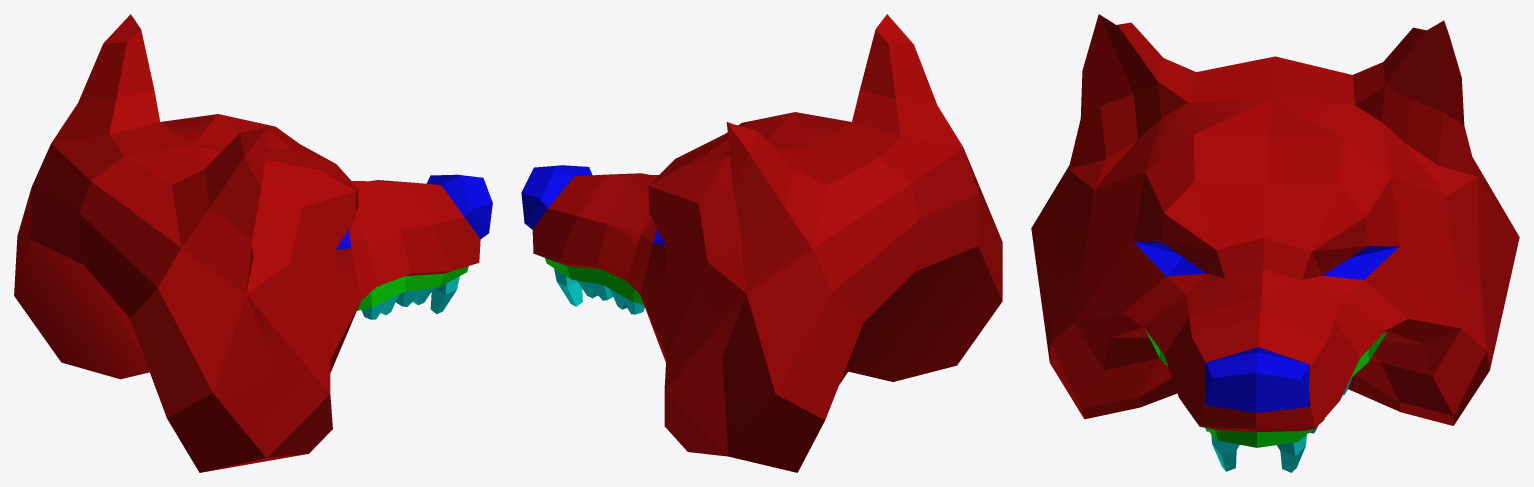
Rendered from Chr_ShoulderAttachLeft_Static_09.fbx.
3 views of the same model, side by side, from view 1: azimuth 30°, elevation 25°; view 2: azimuth 150°, elevation 25°; view 3: azimuth 270°, elevation 25° (orthographic). The views are drawn at different scales.
Visible parts, largest first — view 1: Chr_ShoulderAttachLeft_09; view 2: Chr_ShoulderAttachLeft_09; view 3: Chr_ShoulderAttachLeft_09.
Part boxes in pixels (x1=…): Chr_ShoulderAttachLeft_09: x1=14, y1=14, x2=492, y2=472; Chr_ShoulderAttachLeft_09: x1=521, y1=14, x2=1002, y2=472; Chr_ShoulderAttachLeft_09: x1=1031, y1=14, x2=1519, y2=472.
Size of the model in its own units: 29.5 by 23.68 by 26.84.
